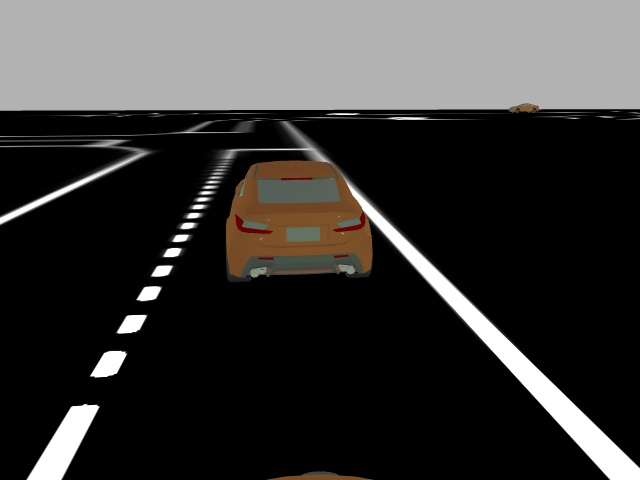obstacle_car: (223, 158, 374, 286)
